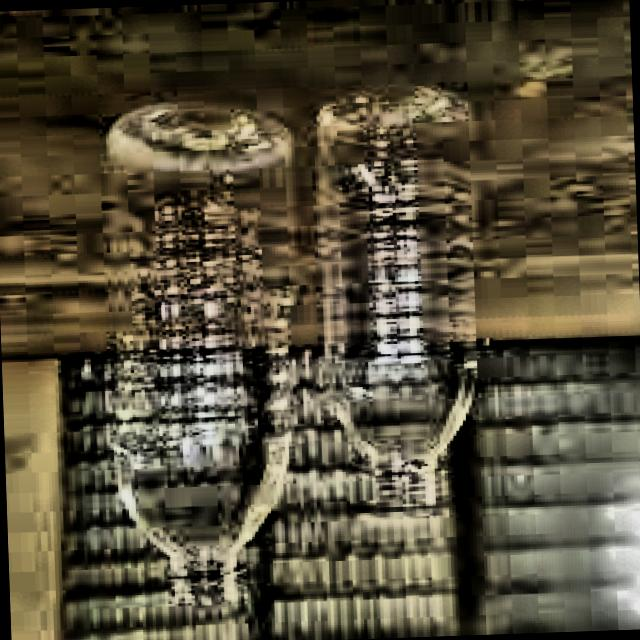plastic bottle: (107, 98, 292, 598), (326, 82, 470, 500)
